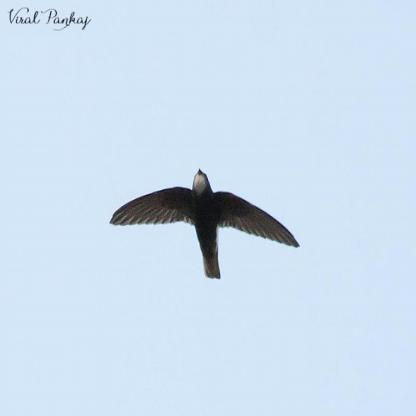Burung: (108, 167, 299, 279)
